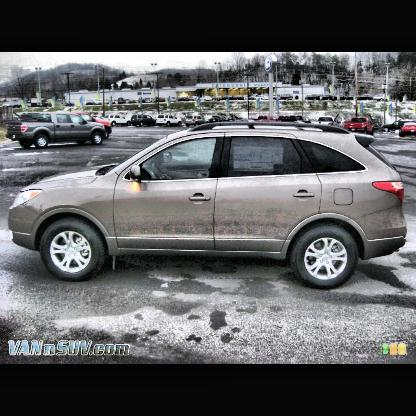Hyundai Veracruz SUV 2012: (11, 123, 409, 291)
